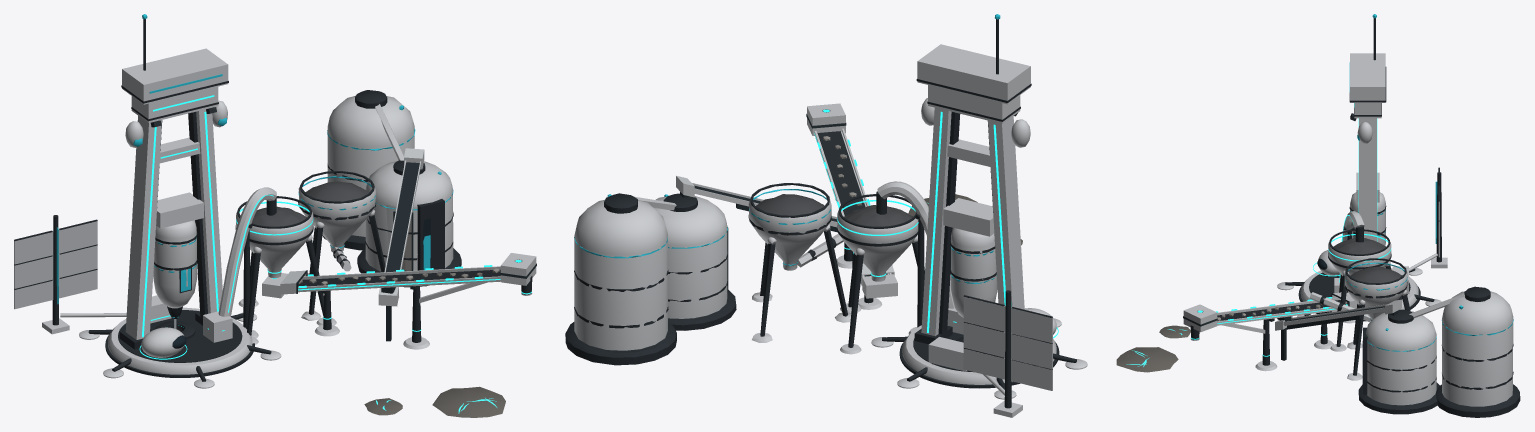
File: mine_revamp_c9a9394e.glb
The picture shows the model from 3 angles, left to right: view 1: azimuth 30°, elevation 25°; view 2: azimuth 150°, elevation 25°; view 3: azimuth 270°, elevation 25°; orthographic projection. The views are drawn at different scales.
Visible parts, largest first — view 1: Base_Paint, Silo, Tier_08, Tier_12, Tier_05, Tier_20, Rig, Base_GlowCyan, Deposit_01, Chute, Deposit_02; view 2: Base_Paint, Tier_12, Silo, Tier_08, Tier_05, Tier_20, Rig, Base_GlowCyan, Chute; view 3: Base_Paint, Tier_12, Silo, Tier_05, Tier_20, Deposit_01, Tier_08, Chute, Rig, Base_GlowCyan.
Boxes of the visible parts, box(x1,y1,x2,y2) form: Base_Paint: box(79, 86, 500, 388); Silo: box(357, 160, 461, 287); Tier_08: box(14, 215, 126, 334); Tier_12: box(322, 90, 415, 250); Tier_05: box(298, 171, 399, 320); Tier_20: box(121, 14, 228, 147); Rig: box(153, 192, 203, 328); Base_GlowCyan: box(139, 95, 531, 359); Deposit_01: box(432, 386, 505, 417); Chute: box(500, 253, 536, 295); Deposit_02: box(364, 398, 402, 415); Base_Paint: box(676, 85, 1087, 399); Tier_12: box(565, 193, 676, 365); Silo: box(653, 193, 736, 330); Tier_08: box(963, 290, 1052, 417); Tier_05: box(748, 183, 851, 342); Tier_20: box(916, 14, 1031, 147); Rig: box(943, 198, 997, 317); Base_GlowCyan: box(814, 111, 1058, 338); Chute: box(807, 103, 845, 135); Base_Paint: box(1217, 103, 1441, 371); Tier_12: box(1409, 286, 1520, 417); Silo: box(1358, 309, 1439, 414); Tier_05: box(1310, 258, 1410, 380); Tier_20: box(1349, 14, 1386, 143); Deposit_01: box(1116, 347, 1178, 372); Tier_08: box(1409, 167, 1447, 271); Chute: box(1183, 304, 1217, 340); Rig: box(1349, 172, 1386, 245); Base_GlowCyan: box(1191, 103, 1391, 356).
Bounding box in the file's own units: 29.26 × 21.87 × 29.46.
